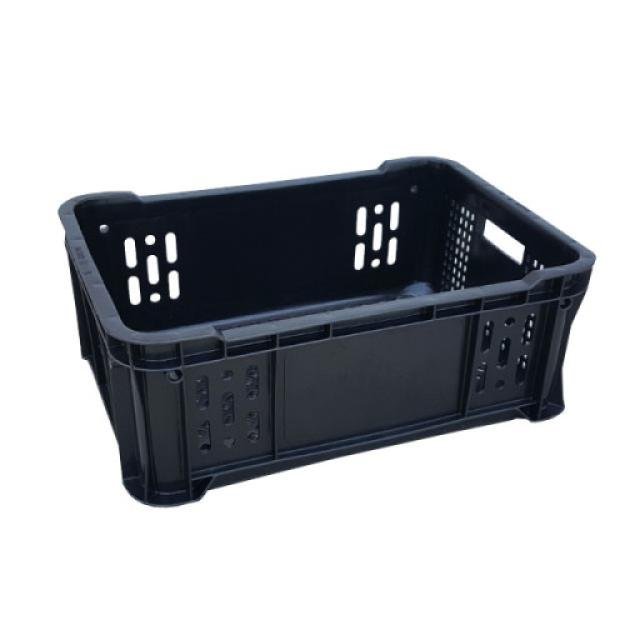basket: (50, 95, 629, 518)
